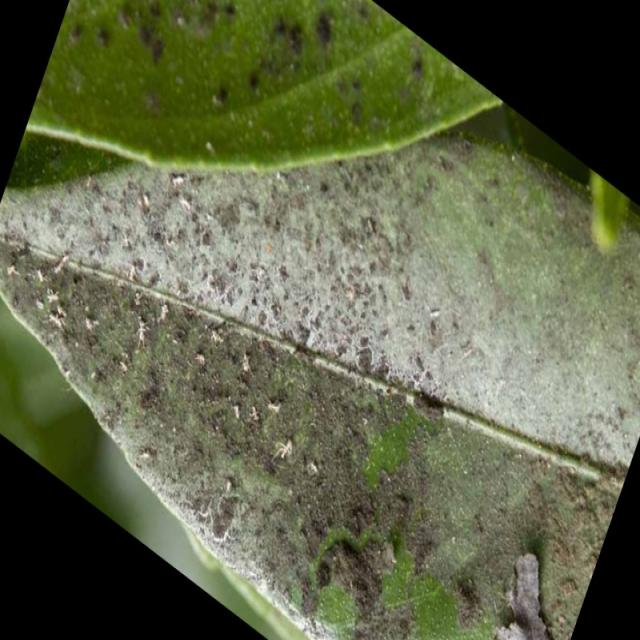Sooty Mold: (1, 2, 636, 638)
